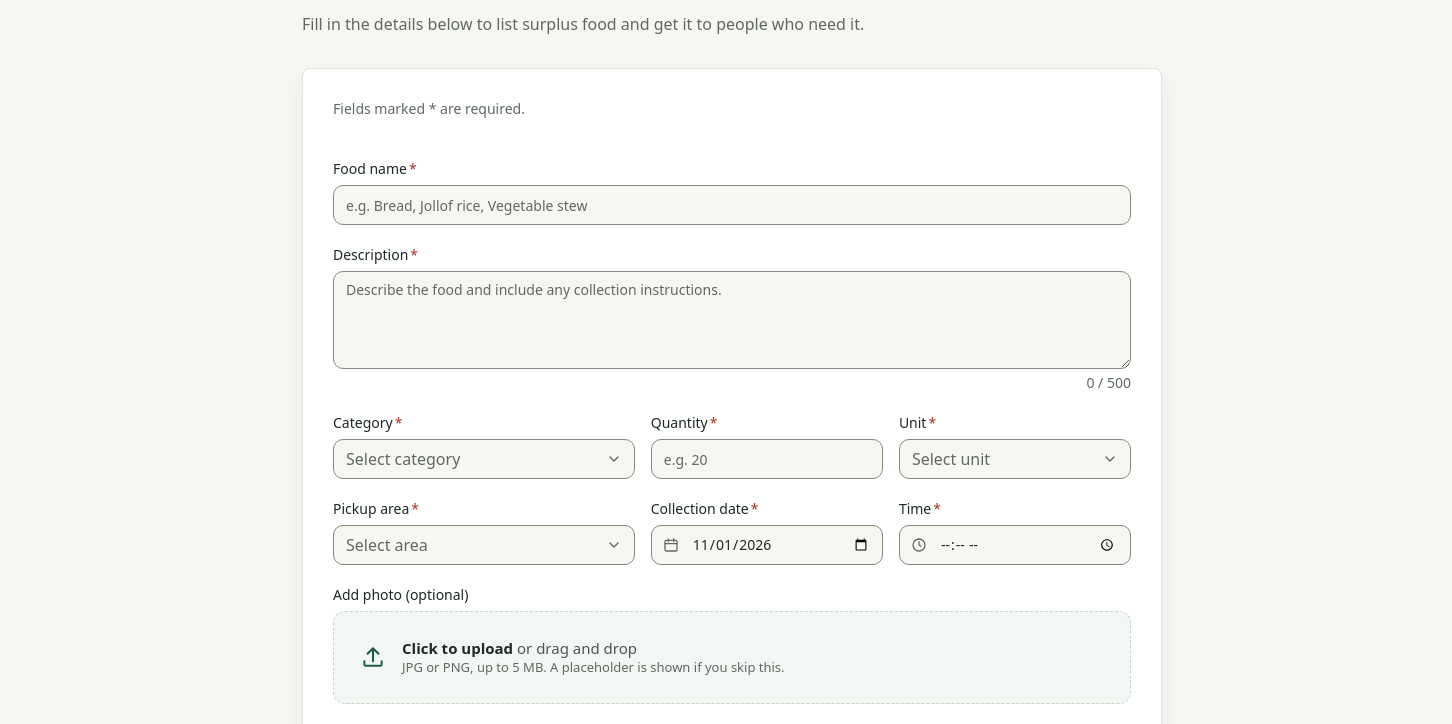
Test case: Share food › shows the spec's message for every empty required field and focuses the first
Clear the date field labelled "Collection date*" at (767, 545), box [651,525,883,565]
(page scrolled)
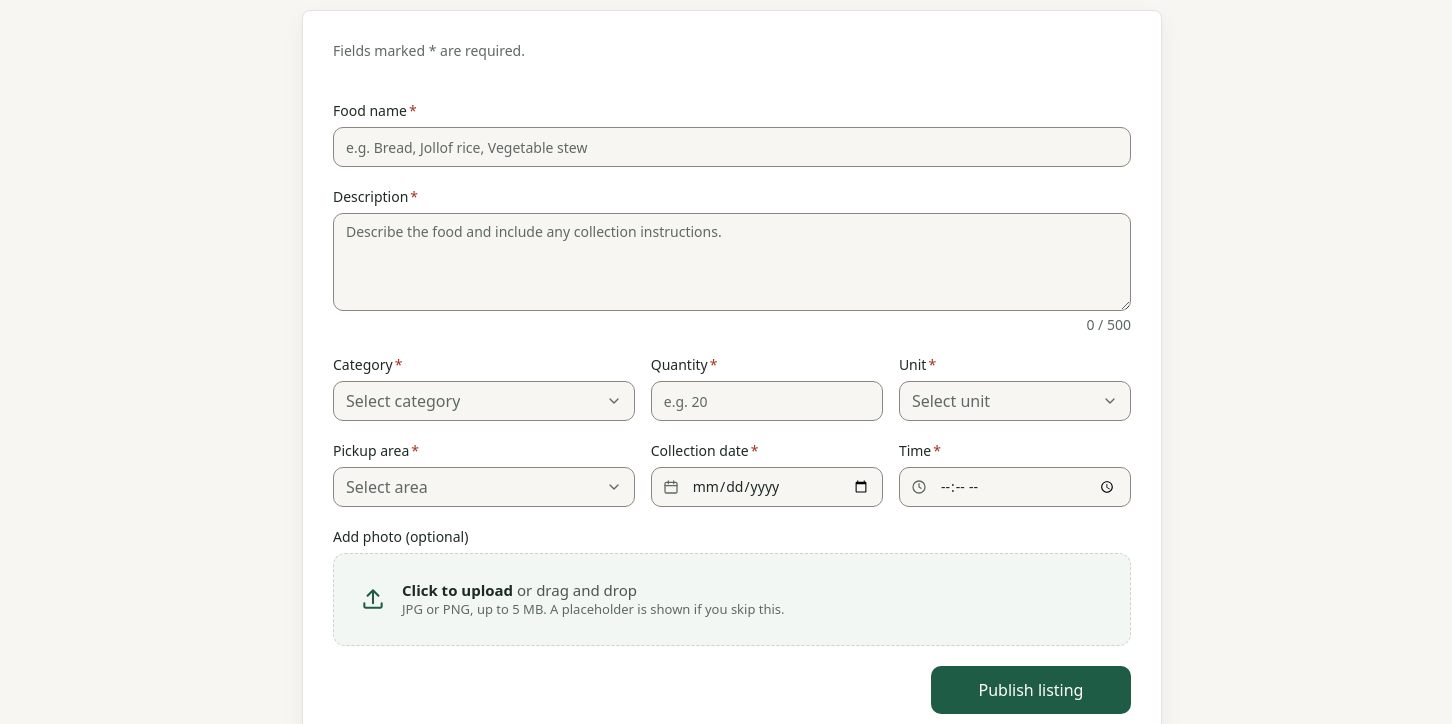
Click the button "Publish listing" at (1031, 690), box [931,666,1131,714]
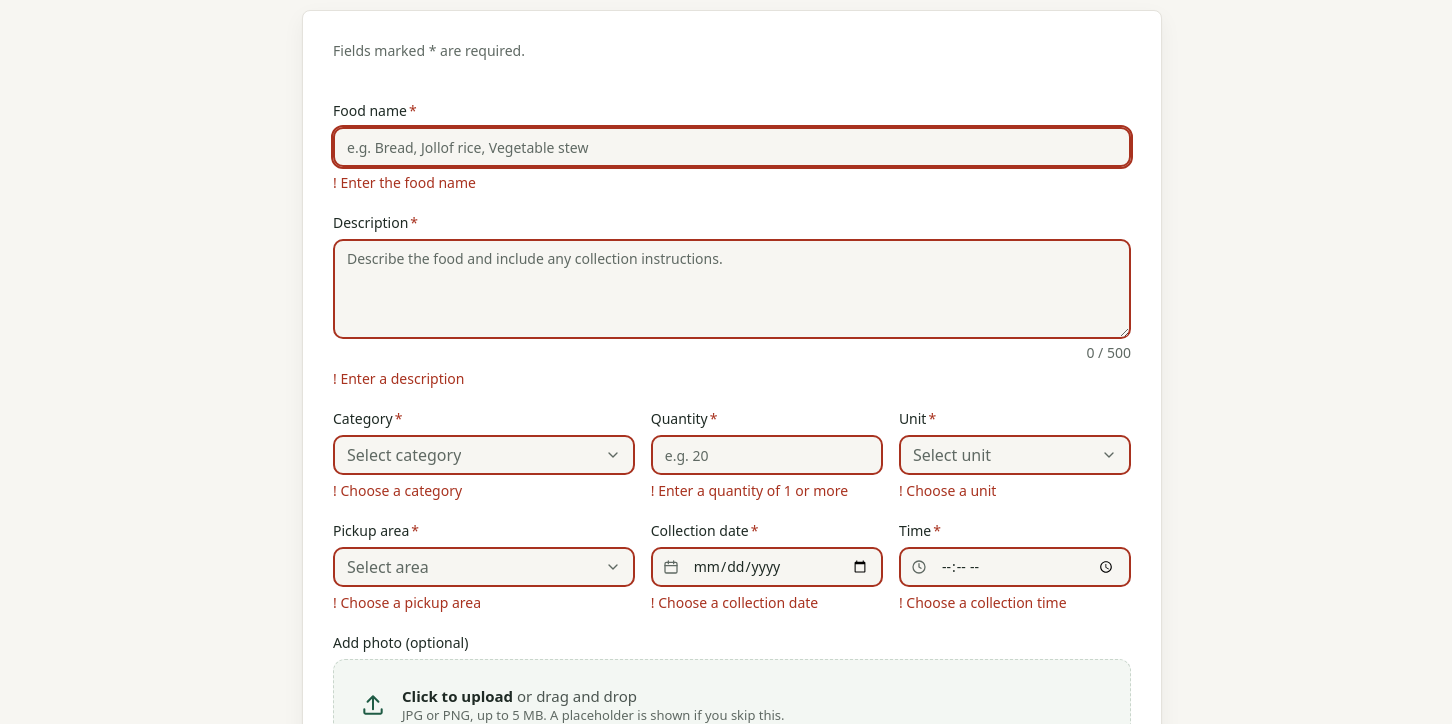
Expected: the text "Enter the food name" is shown, [340,173,476,192]
Expected: the text "Enter a description" is shown, [340,369,464,388]
Expected: the text "Choose a category" is shown, [340,481,462,500]
